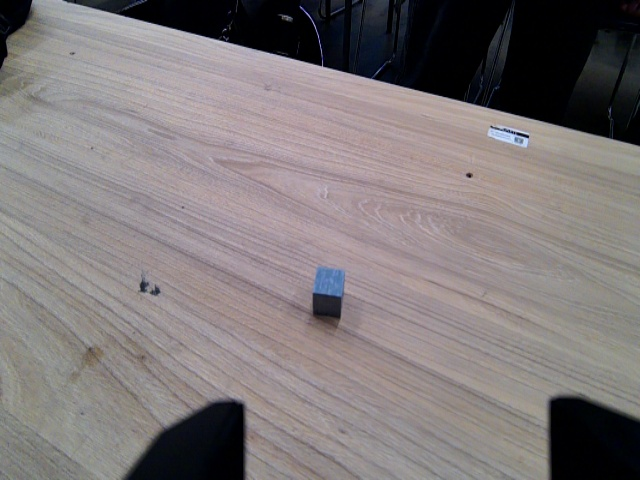stone: (306, 263, 350, 321)
